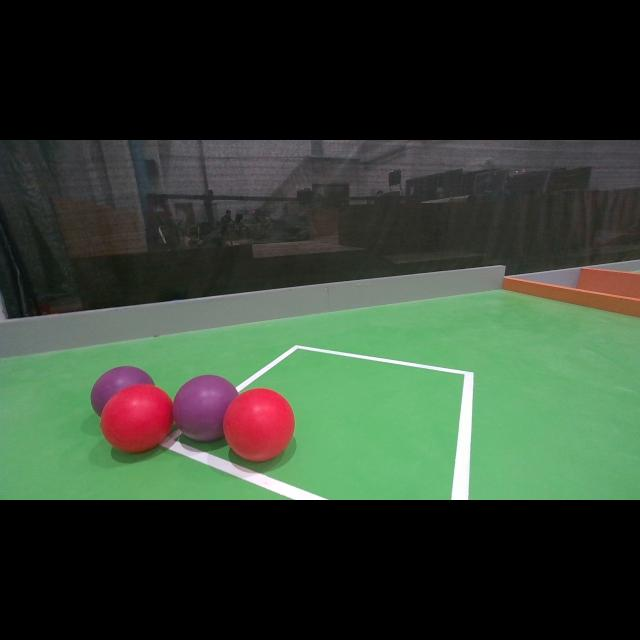P: (174, 376, 240, 444), (94, 364, 154, 428)
R: (223, 388, 295, 462), (102, 383, 174, 452)
